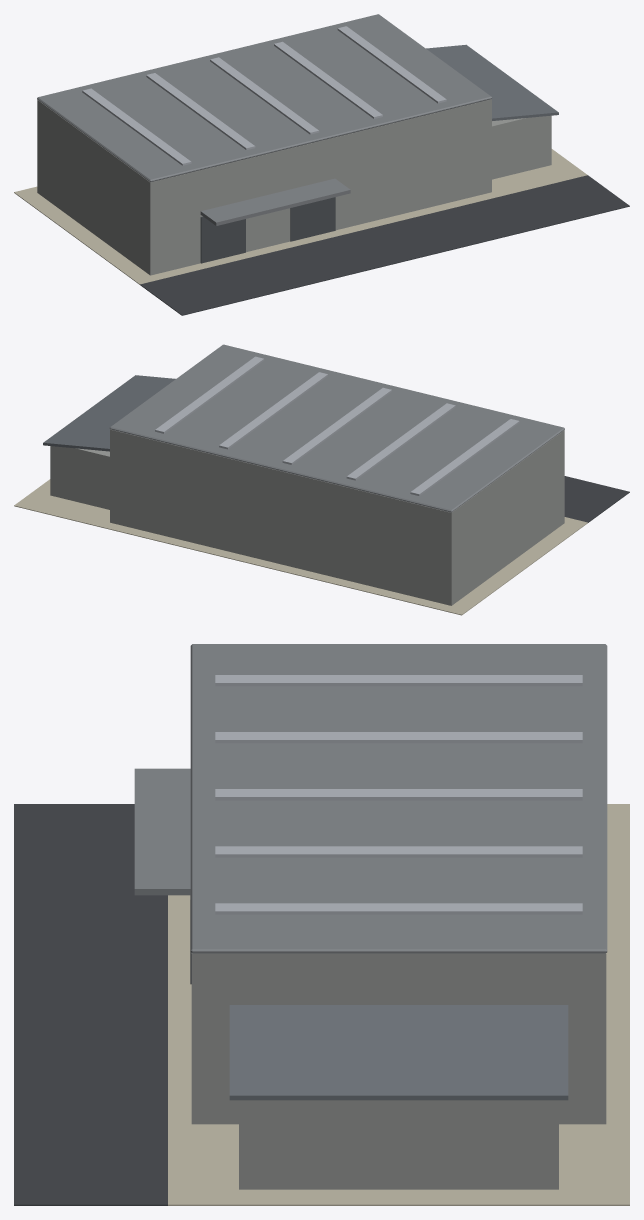
Rendered from site_hall_m.glb.
The picture shows the model from 3 angles, top to bottom: view 1: azimuth 30°, elevation 25°; view 2: azimuth 150°, elevation 25°; view 3: azimuth 270°, elevation 25°; orthographic projection. The views are drawn at different scales.
Parts seen in each view (by area): view 1: site_hall_m; view 2: site_hall_m; view 3: site_hall_m.
Part boxes in pixels (box(x1,y1,x2,y2)): site_hall_m: box(14, 14, 629, 315); site_hall_m: box(14, 344, 629, 615); site_hall_m: box(14, 644, 629, 1205).
Bounding box in the file's own units: 40 × 8.38 × 26.
